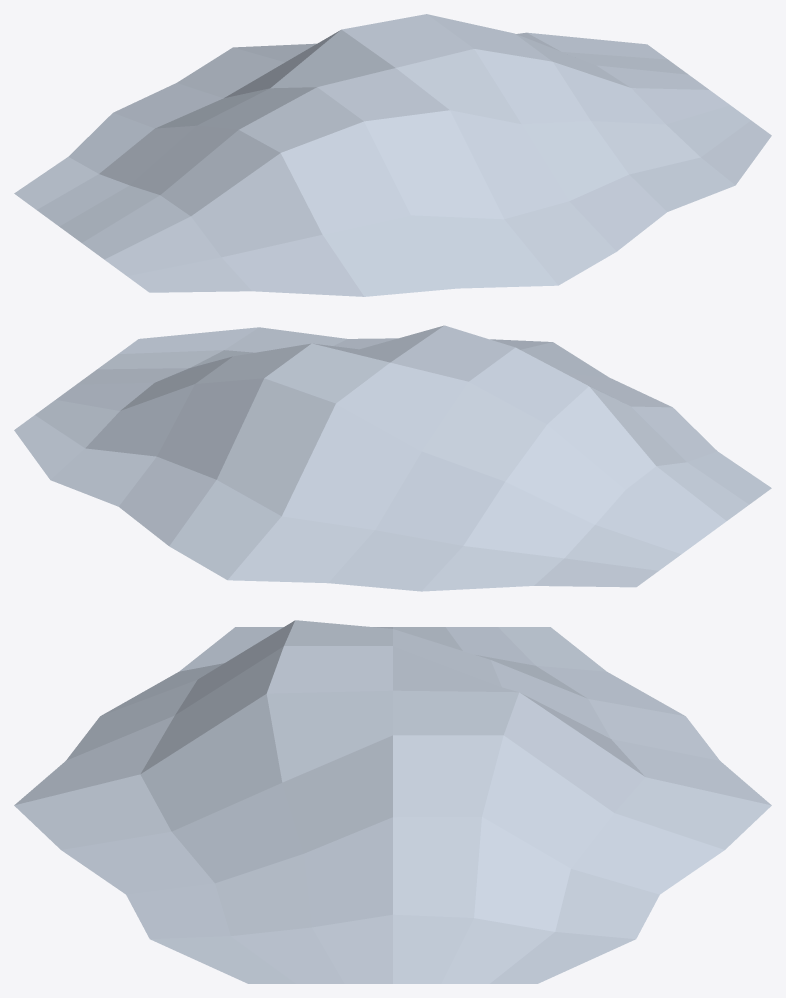
File: rail_snow_drift.glb
The picture shows the model from 3 angles, top to bottom: view 1: azimuth 30°, elevation 25°; view 2: azimuth 150°, elevation 25°; view 3: azimuth 270°, elevation 25°; orthographic projection. The views are drawn at different scales.
Parts seen in each view (by area): view 1: snow; view 2: snow; view 3: snow.
Part boxes in pixels (bbox=[...]): snow: bbox=[14, 14, 771, 296]; snow: bbox=[14, 325, 771, 591]; snow: bbox=[14, 620, 771, 983].
Size of the model in its own units: 3 by 0.45 by 2.69.
